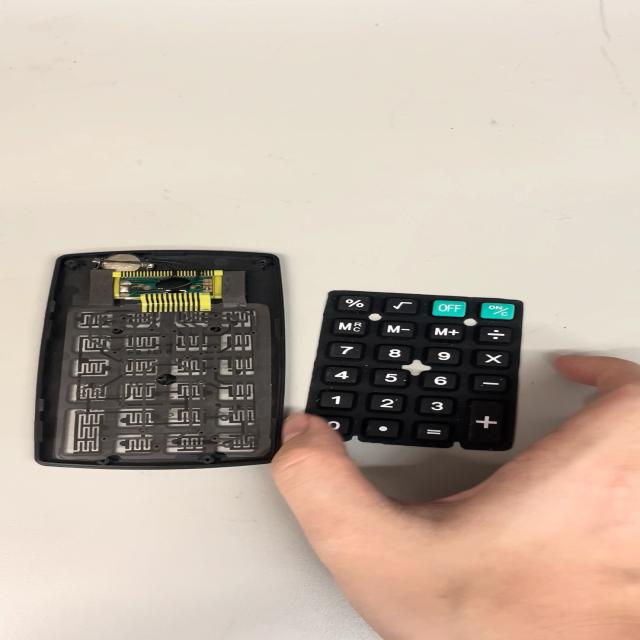front_panel: (9, 242, 281, 472)
number_pad: (299, 283, 526, 464)
